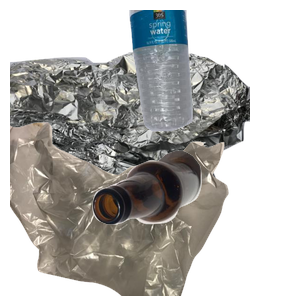glass: (90, 148, 300, 300)
metal: (10, 47, 250, 227)
plastic: (127, 10, 300, 134)
trash: (10, 120, 231, 300)
